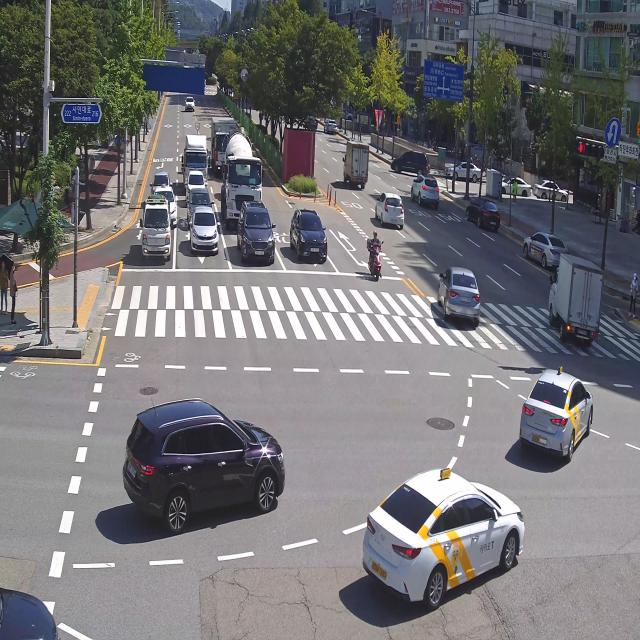Car: (359, 433, 542, 614), (104, 384, 296, 536), (510, 355, 602, 485), (283, 198, 336, 282), (429, 254, 482, 337), (231, 188, 281, 272), (516, 208, 564, 278), (182, 200, 226, 276), (370, 181, 416, 237), (462, 195, 510, 246), (409, 171, 452, 222), (387, 144, 434, 178), (534, 174, 570, 208), (152, 186, 180, 225), (496, 170, 533, 197), (186, 189, 215, 223), (442, 159, 481, 183), (150, 169, 175, 199), (184, 169, 208, 196), (182, 88, 200, 117), (322, 112, 338, 140), (304, 109, 319, 131)
Motorcycle: (363, 218, 385, 291)
Truck: (211, 124, 275, 236), (542, 247, 606, 359), (131, 200, 177, 272), (337, 130, 376, 197), (208, 106, 241, 174), (184, 128, 210, 190)
